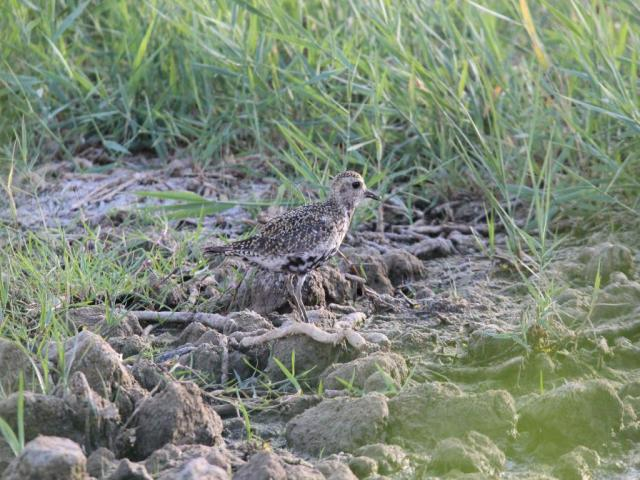Bird: (214, 138, 390, 316)
